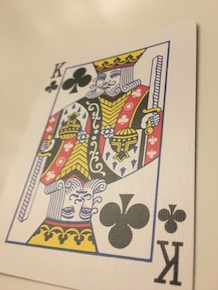KingOfClubs: (2, 16, 203, 290)
